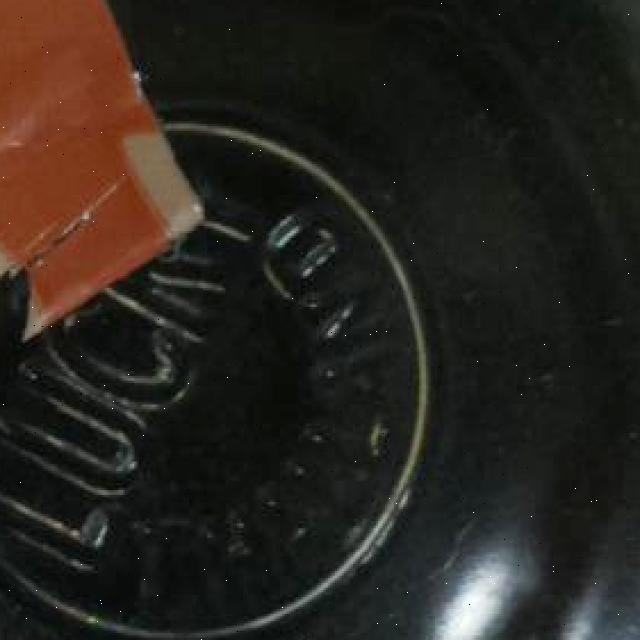Microplastic: (0, 0, 212, 354)
